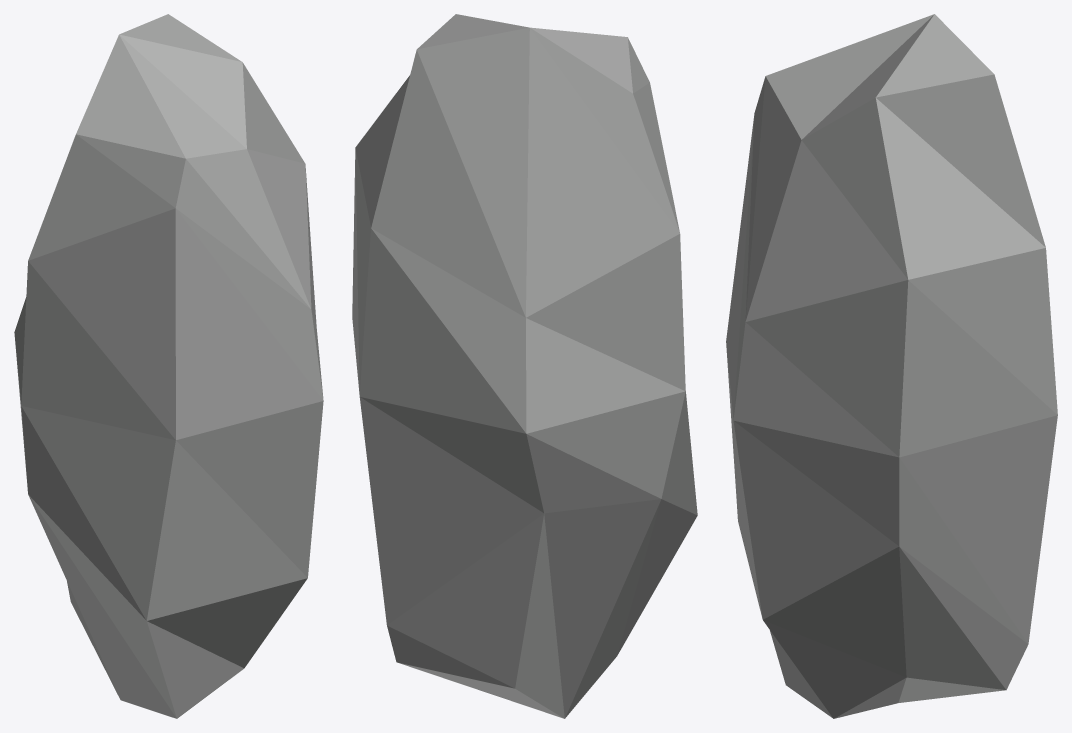
File: Rock_Mid_4.fbx
The picture shows the model from 3 angles, left to right: view 1: azimuth 30°, elevation 25°; view 2: azimuth 150°, elevation 25°; view 3: azimuth 270°, elevation 25°; orthographic projection. The views are drawn at different scales.
Parts seen in each view (by area): view 1: Rock_Mid_4; view 2: Rock_Mid_4; view 3: Rock_Mid_4.
Part boxes in pixels (x1,y1,x2,y2): Rock_Mid_4: (14, 14, 323, 718); Rock_Mid_4: (352, 14, 697, 718); Rock_Mid_4: (726, 14, 1057, 718).
Size of the model in its own units: 2 by 4.1 by 1.77.
